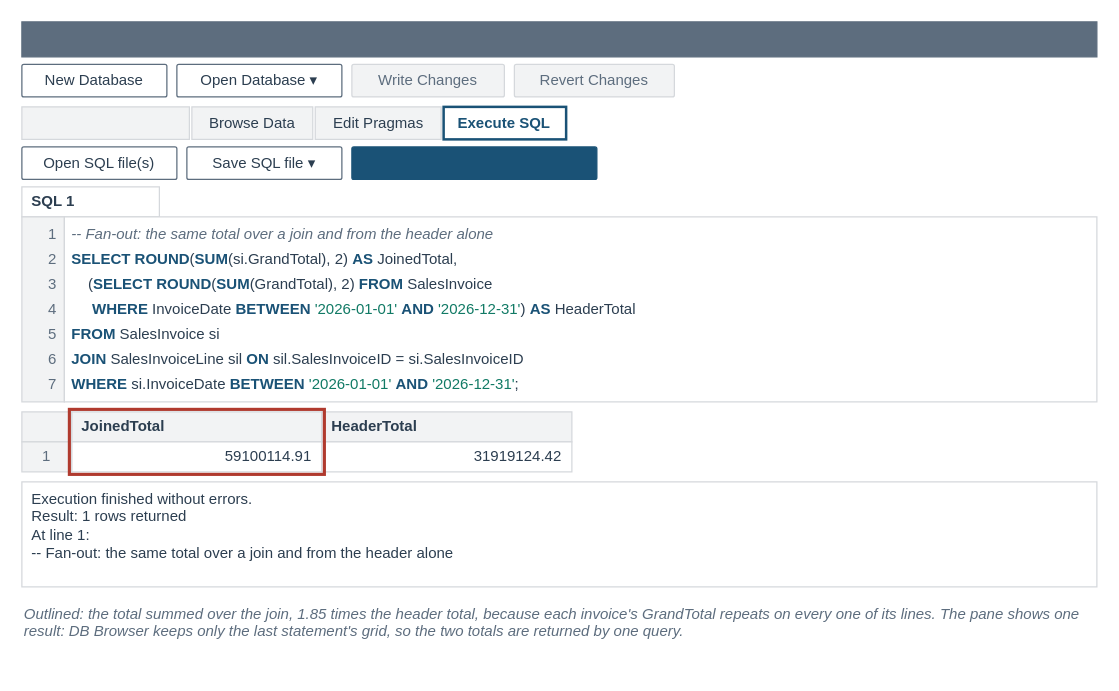
Image size: 1119x691. Some labels were removed from this diagram. The centre of each missing label's shape, as x and y in pixels:
"Database Structure" goes at pixel 105 122.
"DB Browser for SQLite - C:\Users\you\Documents\CharlesRiver_Work.sqlite" goes at pixel 559 39.
"▶ Execute all/selected SQL" goes at pixel 474 162.
